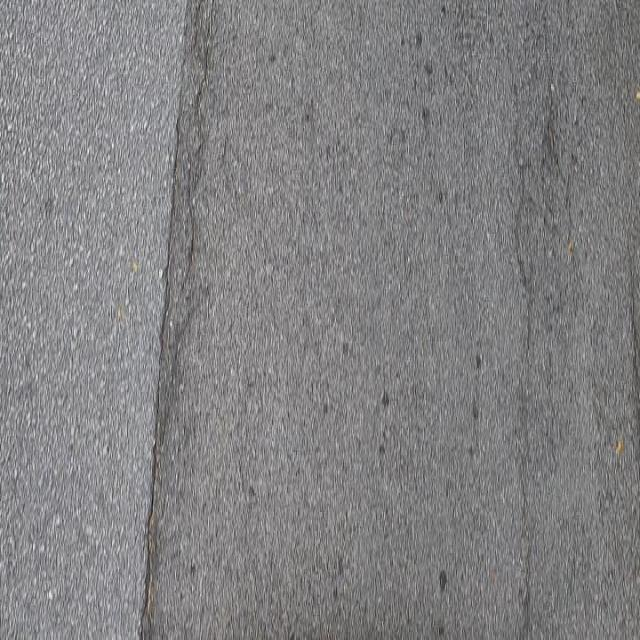cracks: (488, 0, 599, 640), (126, 0, 219, 640)
